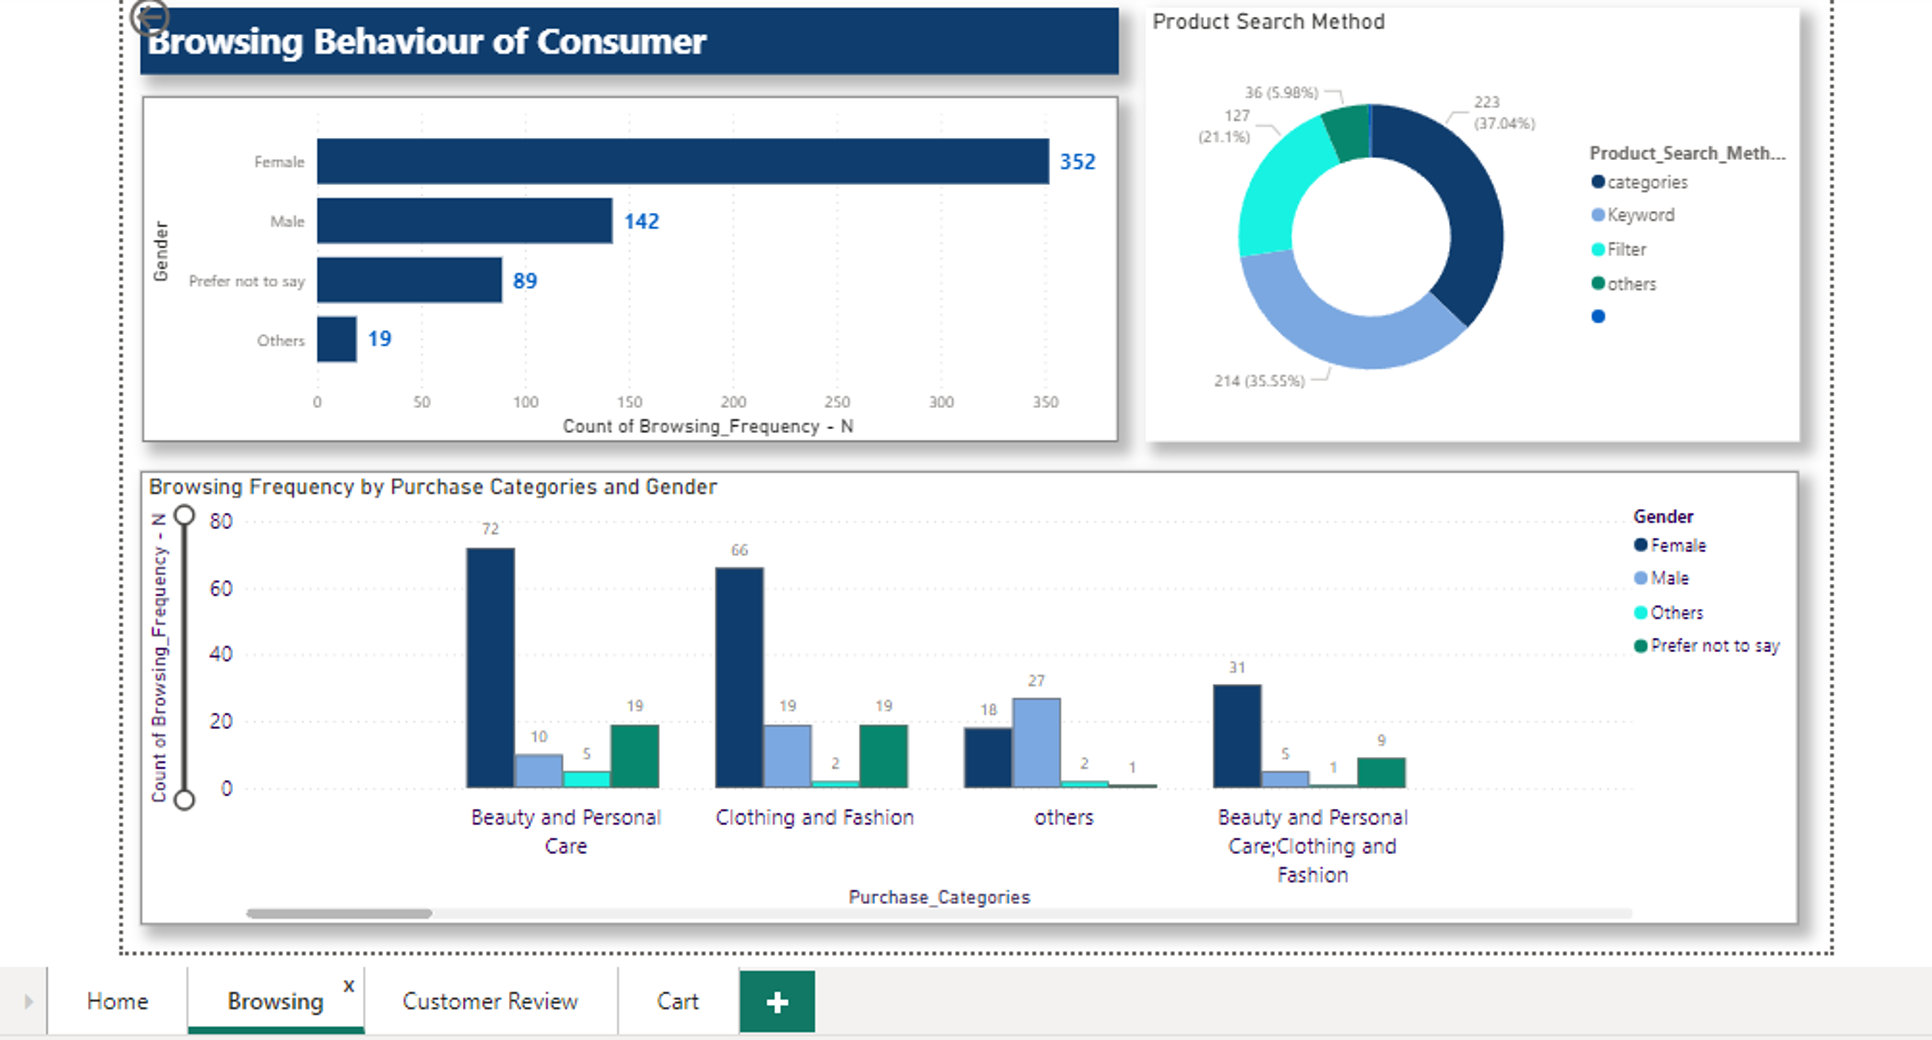

The dashboard page shown, as its layout file describes it:
{"tool":"powerbi","page":{"name":"Browsing","canvas":[1280,720],"ordinal":1},"visuals":[{"type":"clusteredColumnChart","title":"Browsing Frequency by Purchase Categories and Gender","fields":{"Category":["Amazon Customer Behavior Survey 1 - Copy (1).Purchase_Categories"],"Y":["CountNonNull(Amazon Customer Behavior Survey 1 - Copy (1).Browsing_Frequency - N)"],"Series":["Amazon Customer Behavior Survey 1 - Copy (1).Gender"]},"box":[13.5,360.6,1242.4,339.5],"z":0},{"type":"clusteredBarChart","fields":{"Category":["Amazon Customer Behavior Survey 1 - Copy (1).Gender"],"Y":["CountNonNull(Amazon Customer Behavior Survey 1 - Copy (1).Browsing_Frequency - N)"]},"box":[14.2,78.6,731.2,259.5],"z":2000},{"type":"textbox","box":[12.6,12.6,732.8,50.3],"z":3000},{"type":"donutChart","title":"Product Search Method ","fields":{"Category":["Amazon Customer Behavior Survey 1 - Copy (1).Product_Search_Method"],"Y":["CountNonNull(Amazon Customer Behavior Survey 1 - Copy (1).Product_Search_Method - N)"]},"box":[766.2,13.5,489.8,324.5],"z":4000},{"type":"actionButton","box":[0,0,100,40],"z":6000}]}

Visuals, with their boxes on the page's 1280x720 design canvas (x1, y1, x2, y2). These are canvas units, not pixel positions in the 1932x1040 screenshot, which may show the page scaled, cropped or inside an application window:
"Browsing Frequency by Purchase Categories and Gender" clusteredColumnChart: [14,361,1256,700]
clusteredBarChart - Amazon Customer Behavior Survey 1 - Copy (1).Gender x CountNonNull(Amazon Customer Behavior Survey 1 - Copy (1).Browsing_Frequency - N): [14,79,745,338]
textbox: [13,13,745,63]
"Product Search Method " donutChart: [766,14,1256,338]
actionButton: [0,0,100,40]
